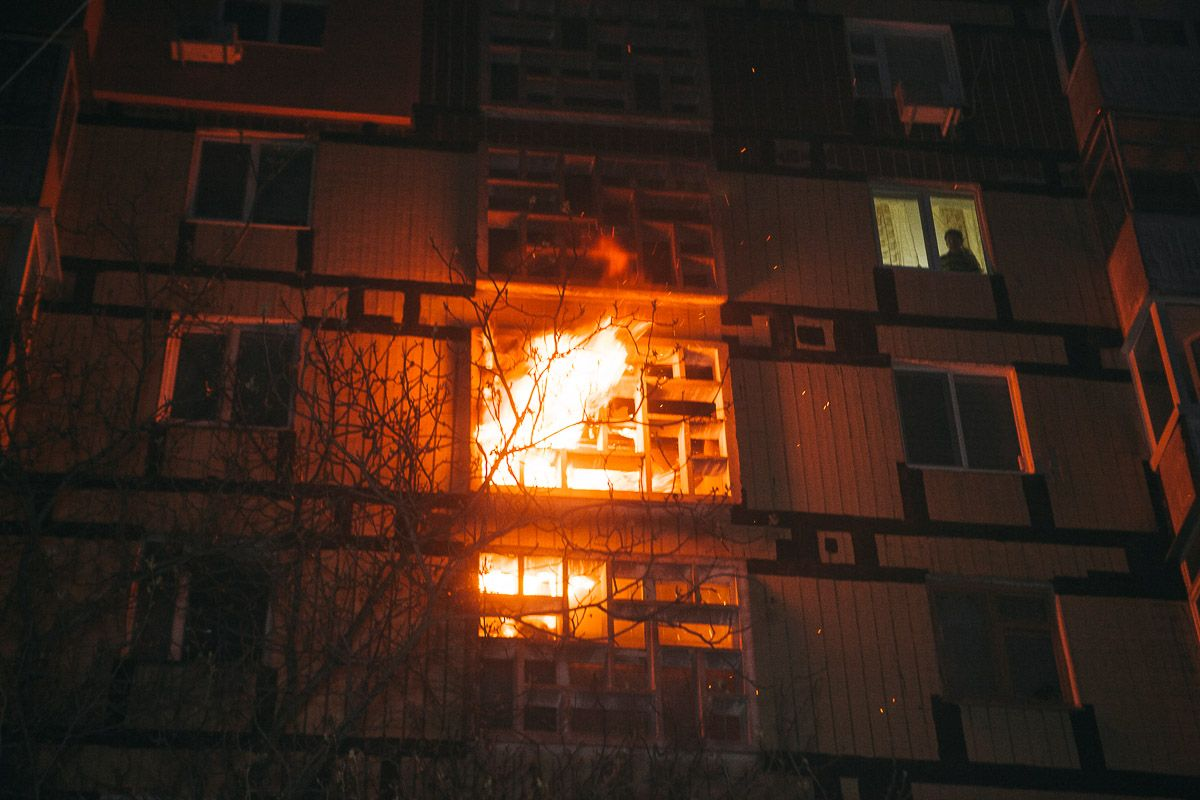fire: (454, 201, 754, 715)
